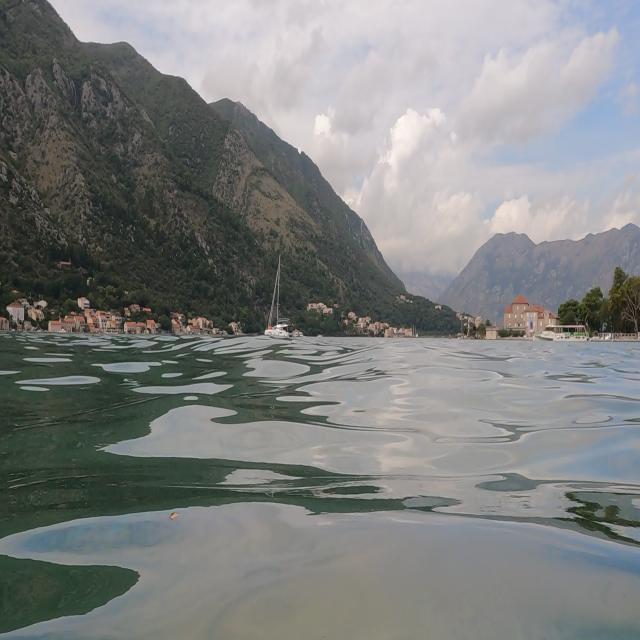boat: (262, 248, 296, 342)
